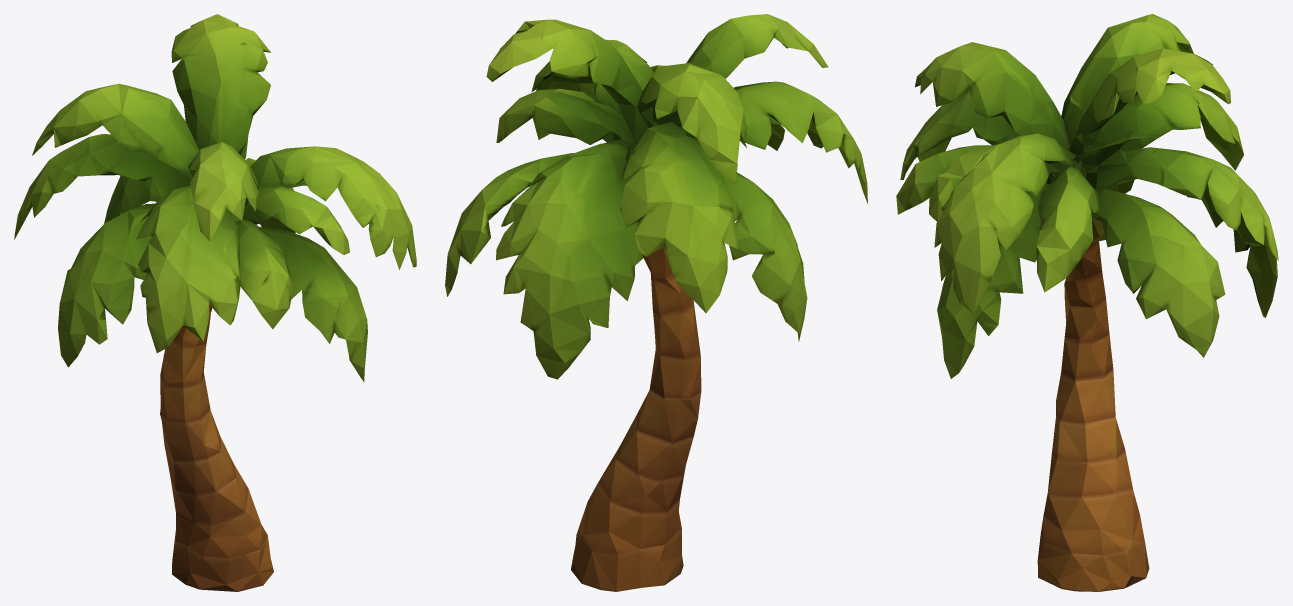
The model's file is palm_tree_a.glb.
3 views of the same model, side by side, from view 1: azimuth 30°, elevation 25°; view 2: azimuth 150°, elevation 25°; view 3: azimuth 270°, elevation 25° (orthographic). The views are drawn at different scales.
Visible parts, largest first — view 1: geometry_0; view 2: geometry_0; view 3: geometry_0.
Part boxes in pixels (x1,y1,x2,y2): geometry_0: (14, 14, 416, 591); geometry_0: (445, 14, 867, 591); geometry_0: (896, 14, 1278, 591).
Size of the model in its own units: 0.6112 by 0.9991 by 0.65.
1 material, 1 textured.
